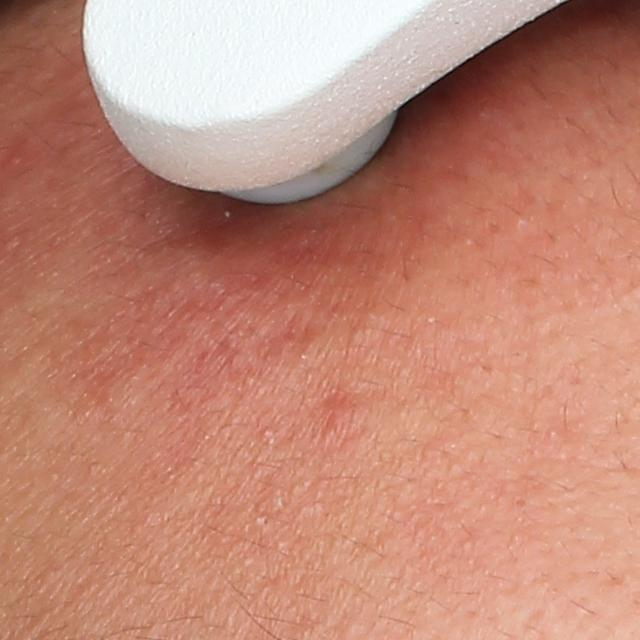comedo: (513, 496, 529, 510), (260, 427, 277, 438)
